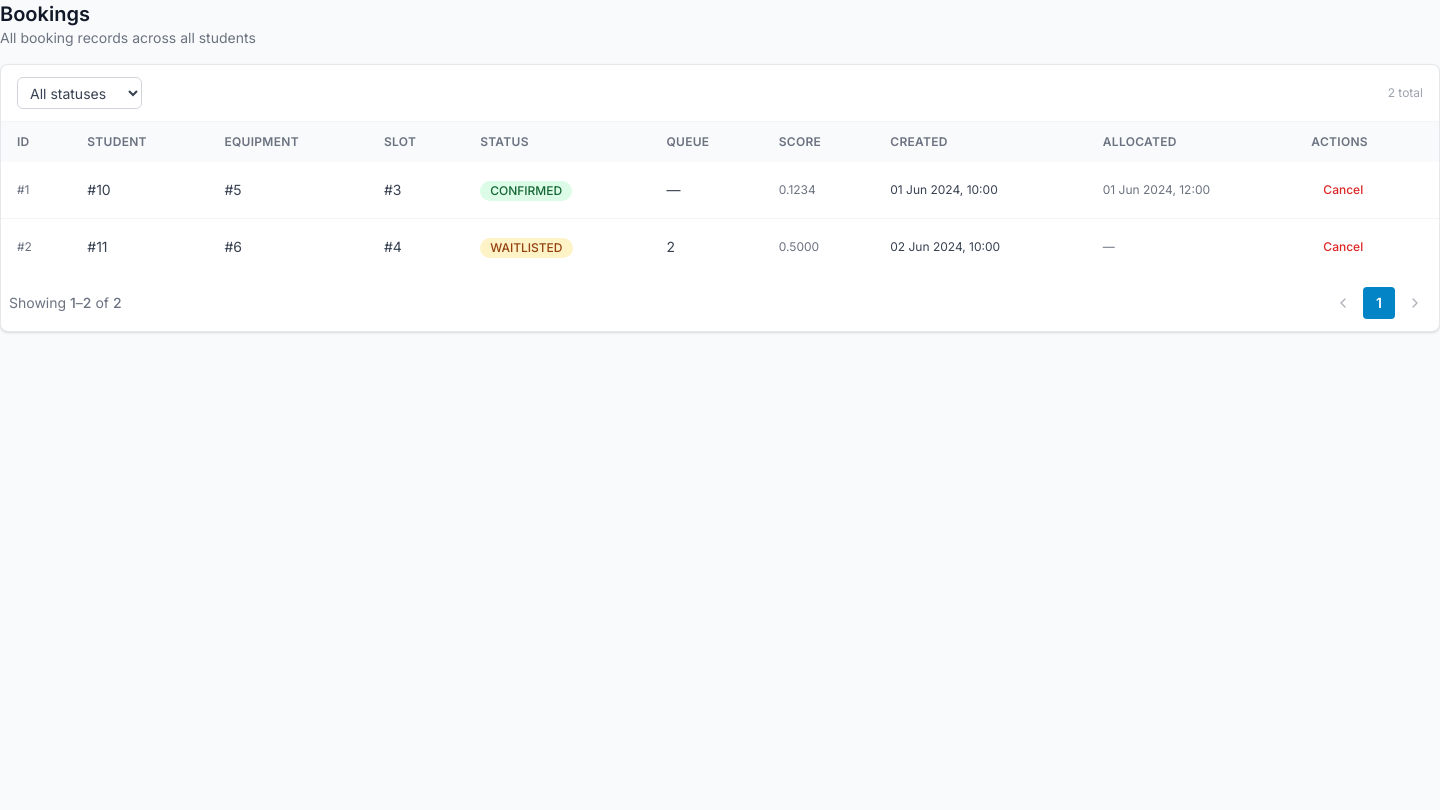
Test: BookingsPage › shows booking detail modal on row click
expect the text "#1" is shown: met, box [1, 162, 71, 218]
Note: Click the first row
What coordinates should you click on to do the following:
click the row that starts with "CONFIRMED"
I would click on:
 (526, 190)
Its box is [1, 162, 1439, 218].
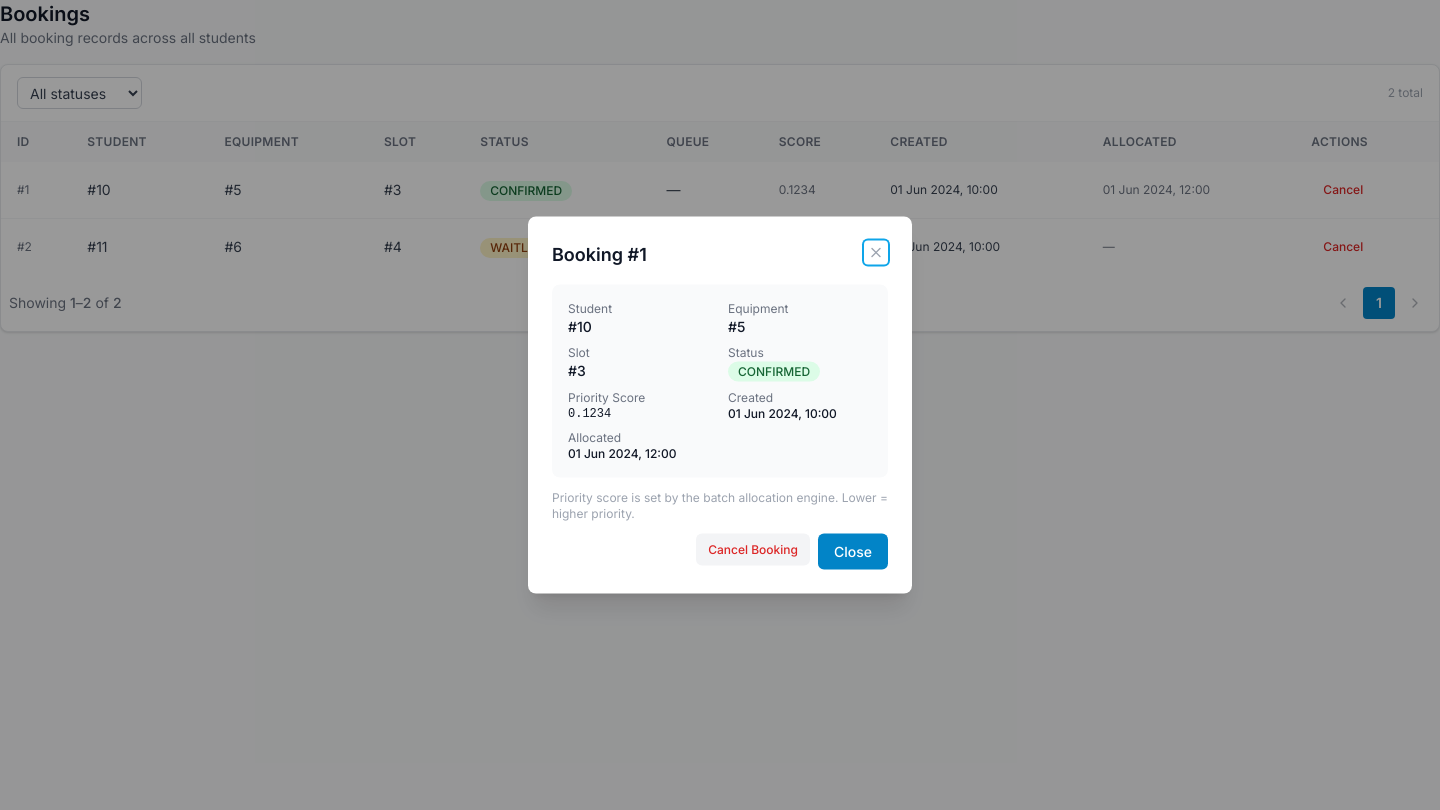
expect the heading "Booking #1" is shown: met, box [552, 240, 647, 268]
